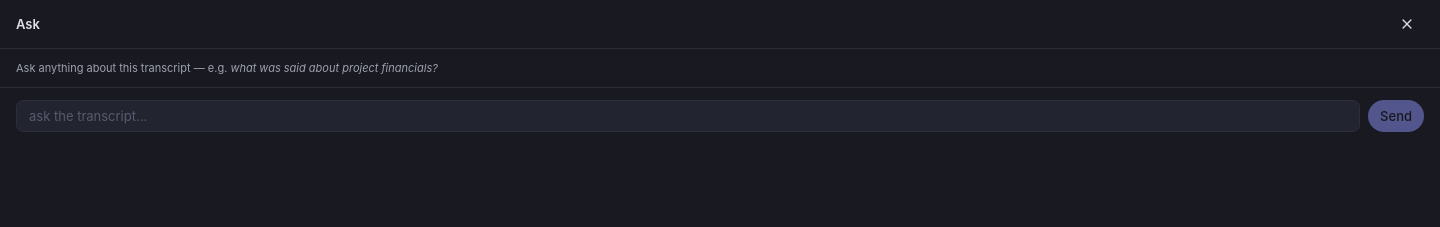
Test: AskPanel › renders unmatched citations as non-clickable
In the field: coordinates (688, 116) [16,100,1360,132], type "any?"
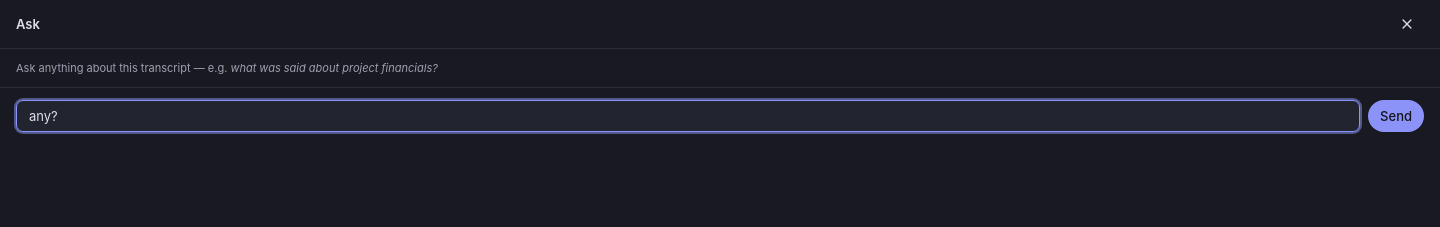
Click the button "Send": coordinates (1396, 116) [1368,100,1424,132]
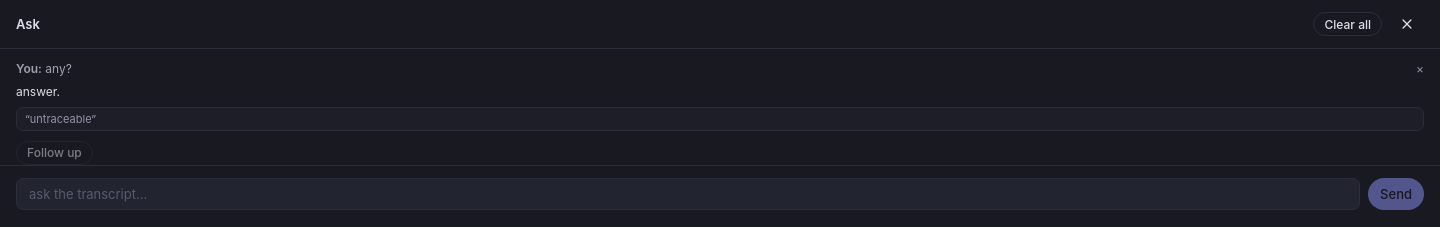
expect the text "answer. “untraceable”" is shown: met, box [16,84,1424,131]
expect the text "“untraceable”" is shown: met, box [16,107,1424,131]
